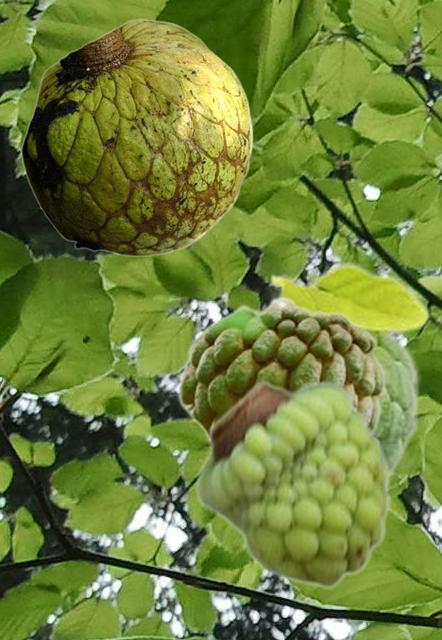atis: (20, 18, 252, 256), (195, 378, 391, 590), (252, 260, 431, 488), (175, 295, 385, 440)
